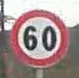limite 60: (9, 8, 69, 68)
